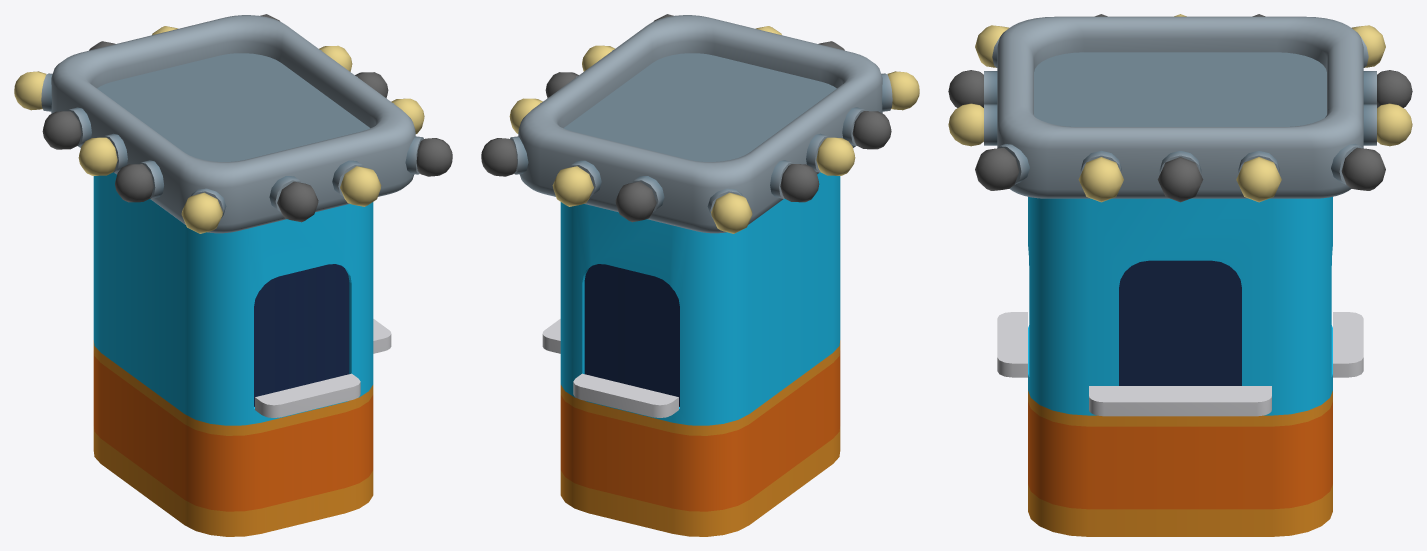
Rendered from TicketShop.fbx.
The picture shows the model from 3 angles, left to right: view 1: azimuth 30°, elevation 25°; view 2: azimuth 150°, elevation 25°; view 3: azimuth 270°, elevation 25°; orthographic projection. The views are drawn at different scales.
Parts seen in each view (by area): view 1: TicketShop, Ticket_Light, Ticket_Light01; view 2: TicketShop, Ticket_Light, Ticket_Light01; view 3: TicketShop, Ticket_Light, Ticket_Light01.
Boxes of the visible parts, <box> form: TicketShop: <box>51,15,415,536</box>; Ticket_Light: <box>14,26,424,233</box>; Ticket_Light01: <box>42,14,452,222</box>; TicketShop: <box>518,15,882,536</box>; Ticket_Light: <box>509,26,919,233</box>; Ticket_Light01: <box>481,14,891,222</box>; TicketShop: <box>997,16,1363,536</box>; Ticket_Light: <box>948,14,1412,202</box>; Ticket_Light01: <box>948,14,1412,202</box>.
Bounding box in the file's own units: 126 × 150 × 152.
